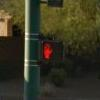Traffic light: (49, 31, 71, 75)
